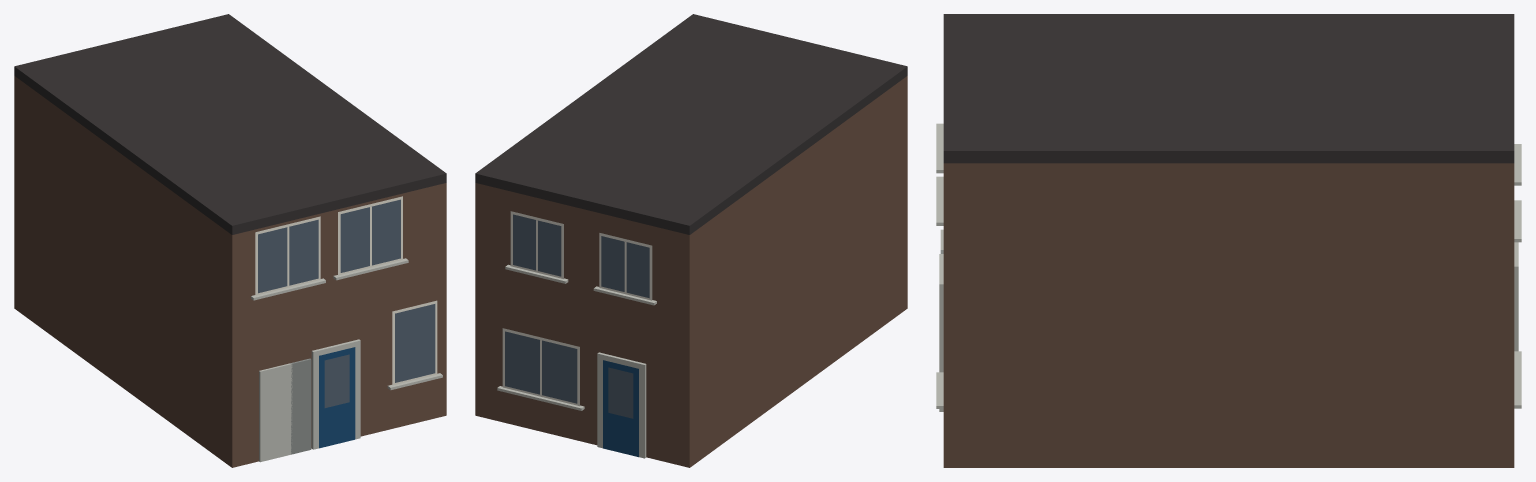
The model's file is nw-rowhouse-garage-door-2st__blue-door__2__flat__long__solid.glb.
3 renders of one model, left to right at view 1: azimuth 30°, elevation 25°; view 2: azimuth 150°, elevation 25°; view 3: azimuth 270°, elevation 25°, orthographic. The views are drawn at different scales.
Parts seen in each view (by area): view 1: nw-rowhouse-garage-door-2st__blue-door__2__flat__long__solid; view 2: nw-rowhouse-garage-door-2st__blue-door__2__flat__long__solid; view 3: nw-rowhouse-garage-door-2st__blue-door__2__flat__long__solid.
Part boxes in pixels (x1=…): nw-rowhouse-garage-door-2st__blue-door__2__flat__long__solid: x1=14, y1=14, x2=446, y2=467; nw-rowhouse-garage-door-2st__blue-door__2__flat__long__solid: x1=475, y1=14, x2=907, y2=467; nw-rowhouse-garage-door-2st__blue-door__2__flat__long__solid: x1=936, y1=14, x2=1521, y2=467.
Size of the model in its own units: 5.33 by 5.75 by 9.62.
